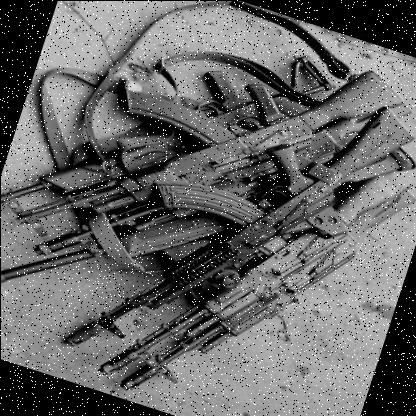rifle: (65, 38, 416, 416), (12, 0, 400, 320), (120, 126, 415, 416)
